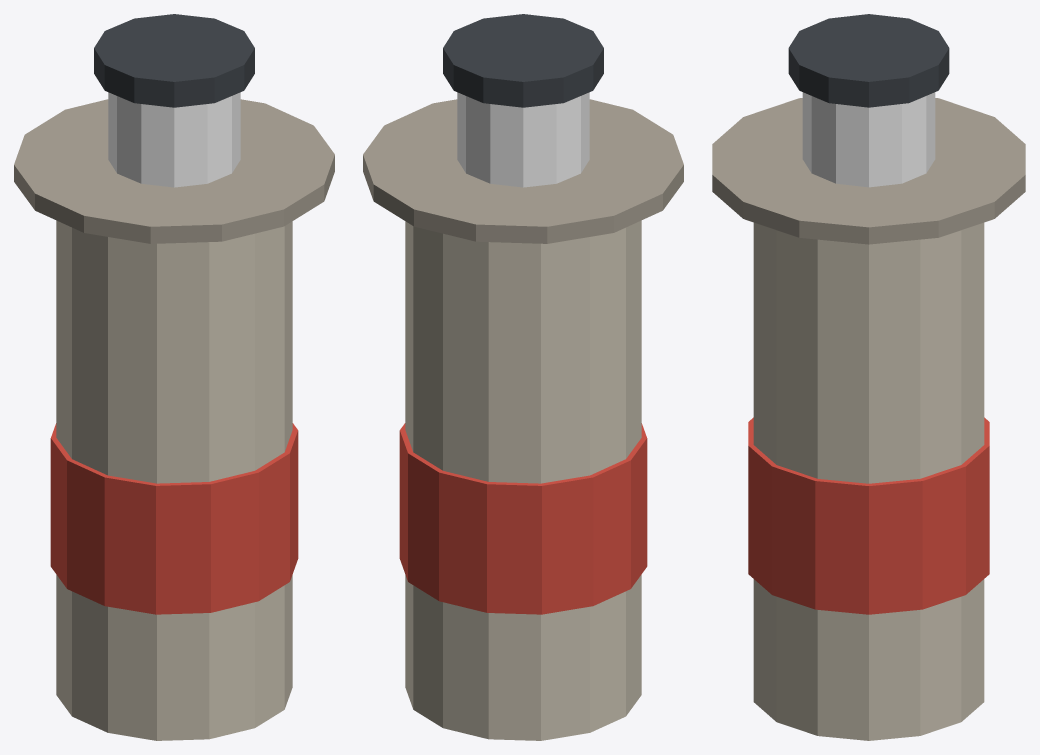
The model's file is breakwater_light_red.glb.
The picture shows the model from 3 angles, left to right: view 1: azimuth 30°, elevation 25°; view 2: azimuth 150°, elevation 25°; view 3: azimuth 270°, elevation 25°; orthographic projection.
Visible parts, largest first — view 1: LOD0; view 2: LOD0; view 3: LOD0.
Part boxes in pixels (x1,y1,x2,y2): LOD0: (14,14,334,740); LOD0: (363,14,683,740); LOD0: (712,14,1025,740).
Size of what is drawn, in the model's own units: 6.8 by 15 by 6.63.
